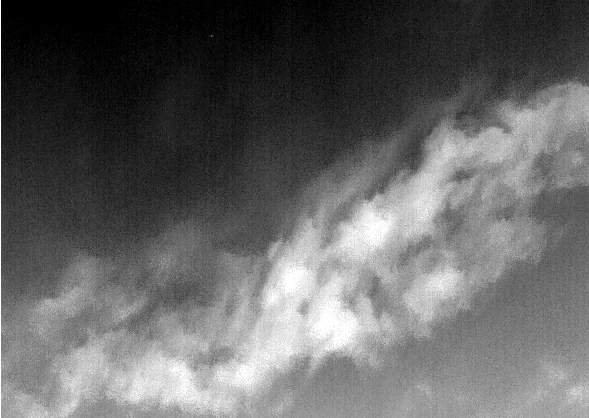dim target: (209, 33, 214, 39)
